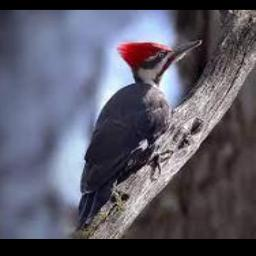Woodpecker: (76, 39, 202, 228)
